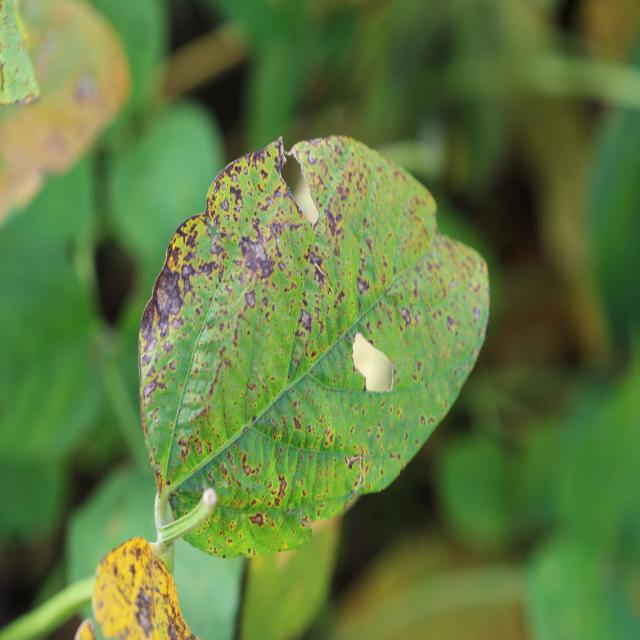Bacterial_Blight: (202, 340, 237, 403), (35, 31, 61, 74), (306, 247, 329, 283), (43, 129, 69, 160), (323, 202, 345, 238), (298, 301, 318, 336), (139, 303, 155, 346), (289, 334, 305, 373), (114, 575, 134, 605), (75, 75, 96, 102), (16, 7, 29, 48), (474, 254, 488, 285), (239, 453, 257, 477), (274, 135, 287, 167), (238, 236, 255, 260), (334, 179, 351, 202), (142, 378, 158, 401), (137, 588, 153, 610), (195, 261, 215, 278), (229, 184, 243, 208), (228, 495, 250, 510), (276, 475, 288, 500), (356, 277, 370, 296), (345, 454, 360, 471), (166, 620, 179, 639), (20, 92, 39, 105), (244, 289, 256, 309), (210, 235, 222, 255), (249, 512, 265, 527), (271, 427, 286, 443), (400, 307, 412, 325), (226, 451, 236, 472), (334, 289, 346, 306), (256, 374, 268, 390), (168, 493, 177, 513), (269, 221, 280, 237), (391, 361, 398, 386), (446, 315, 456, 332), (171, 317, 183, 331), (0, 62, 6, 90), (181, 264, 192, 278), (472, 305, 481, 322), (293, 416, 303, 431), (259, 167, 269, 181), (300, 516, 311, 528), (128, 562, 136, 578), (390, 450, 401, 461), (163, 340, 173, 352), (112, 561, 119, 578), (168, 359, 177, 372), (221, 198, 229, 212), (414, 311, 422, 325), (448, 278, 457, 289), (196, 442, 203, 455), (416, 360, 423, 373), (366, 321, 373, 334), (155, 462, 162, 474), (262, 296, 269, 307), (420, 415, 426, 426), (94, 569, 100, 580), (225, 536, 233, 544), (231, 173, 238, 182), (362, 383, 368, 393), (243, 166, 249, 175), (307, 425, 312, 434), (154, 416, 159, 425), (221, 182, 226, 191), (169, 422, 174, 430), (182, 465, 187, 472)
Soybean: (139, 136, 489, 557)
